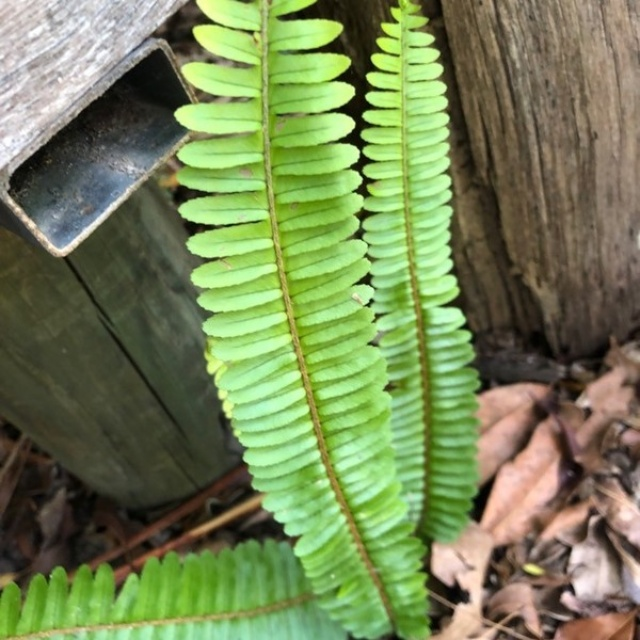obstacle: (176, 4, 428, 625), (353, 17, 487, 528)
